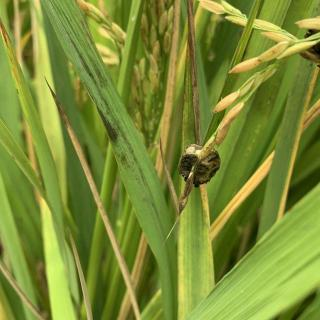Gosong-Palsu: (176, 140, 223, 190)
